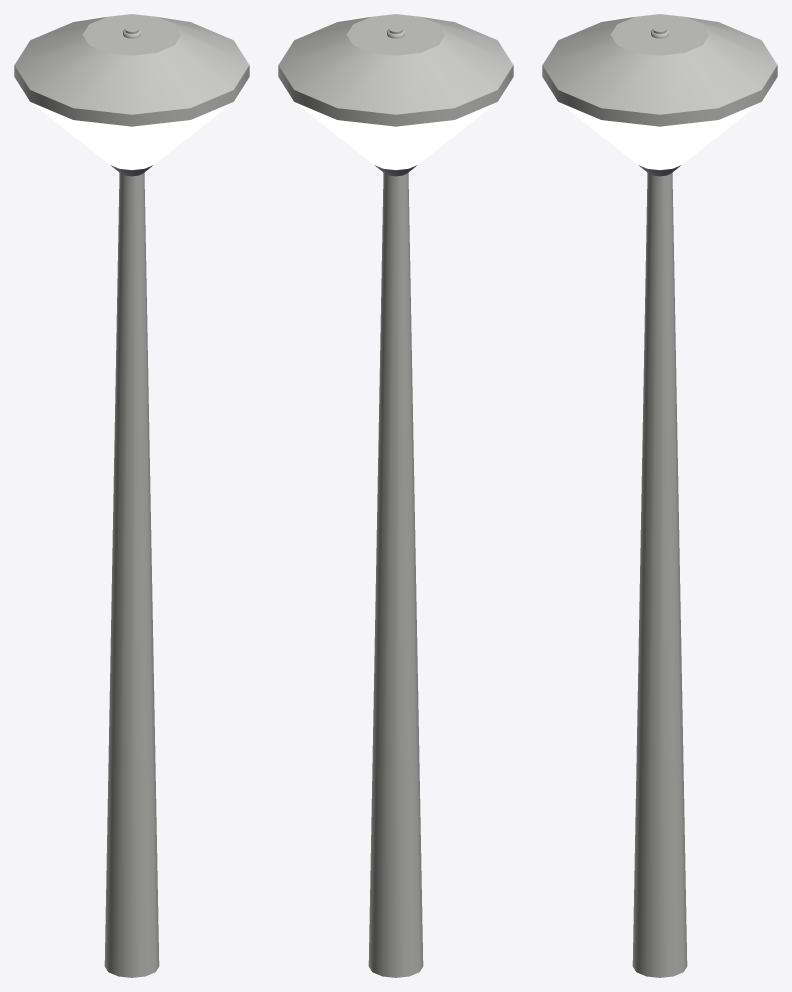
File: StreetLamp.glb
The picture shows the model from 3 angles, left to right: view 1: azimuth 30°, elevation 25°; view 2: azimuth 150°, elevation 25°; view 3: azimuth 270°, elevation 25°; orthographic projection.
Visible parts, largest first — view 1: LampPost; view 2: LampPost; view 3: LampPost.
Part boxes in pixels (x1,y1,x2,y2): LampPost: [14, 14, 249, 977]; LampPost: [278, 14, 513, 977]; LampPost: [542, 14, 777, 977].
Size of what is drawn, in the model's own units: 0.7528 by 3.31 by 0.7528.
2 materials, 1 textured.
